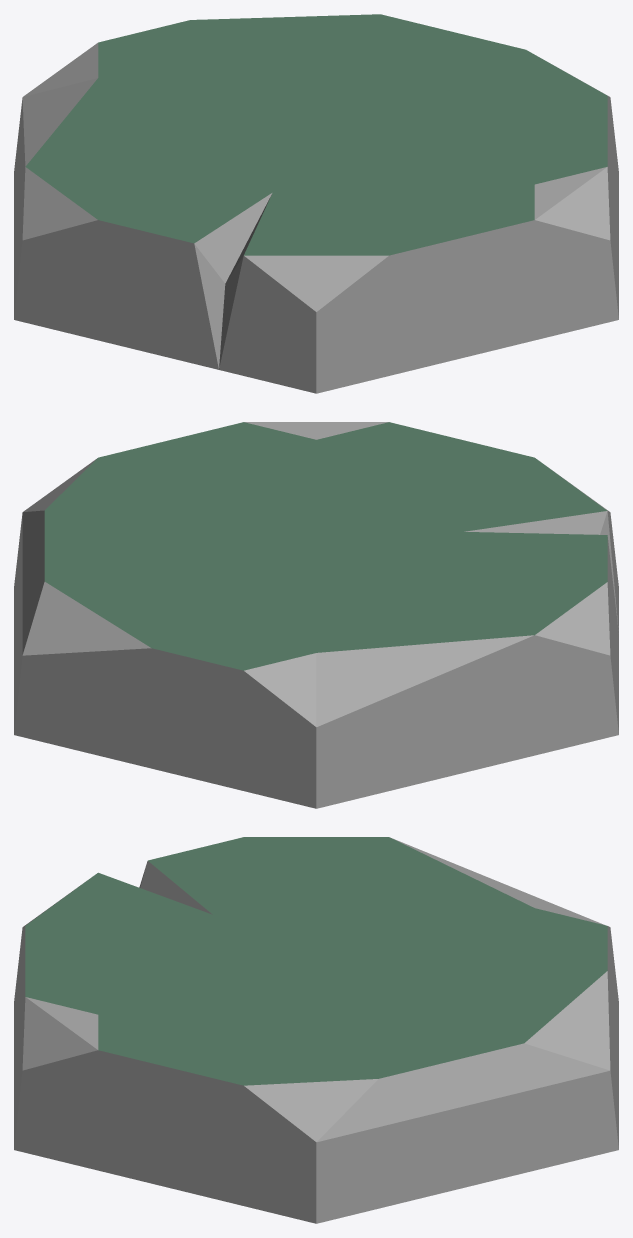
File: Hex16.fbx
3 renders of one model, top to bottom at view 1: azimuth 30°, elevation 25°; view 2: azimuth 150°, elevation 25°; view 3: azimuth 270°, elevation 25°, orthographic.
Visible parts, largest first — view 1: Hex16; view 2: Hex16; view 3: Hex16.
Part boxes in pixels (x1,y1,x2,y2): Hex16: (14, 14, 618, 393); Hex16: (14, 422, 618, 808); Hex16: (14, 837, 618, 1223).
Size of the model in its own units: 2 by 0.3628 by 1.73.
